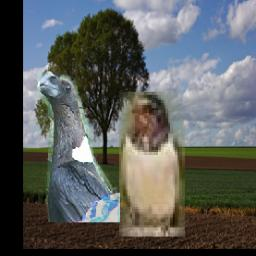Crow: (37, 71, 120, 222)
Swallow: (118, 92, 184, 237)
